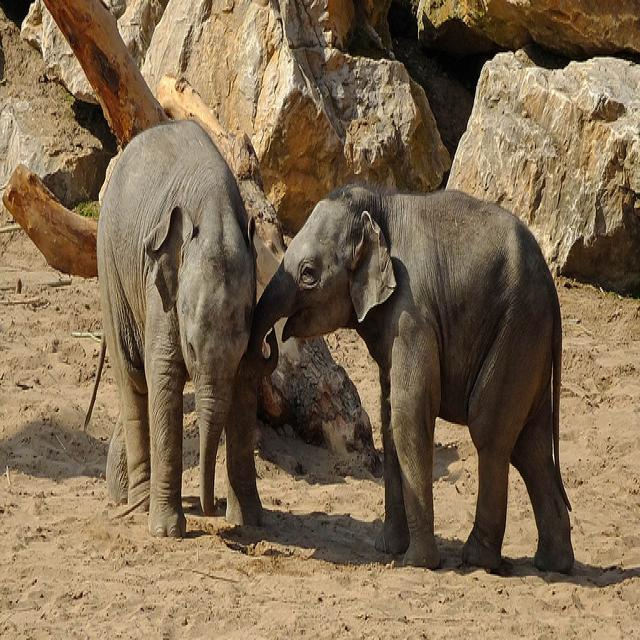Elephant: (232, 182, 575, 574), (86, 116, 273, 538)
